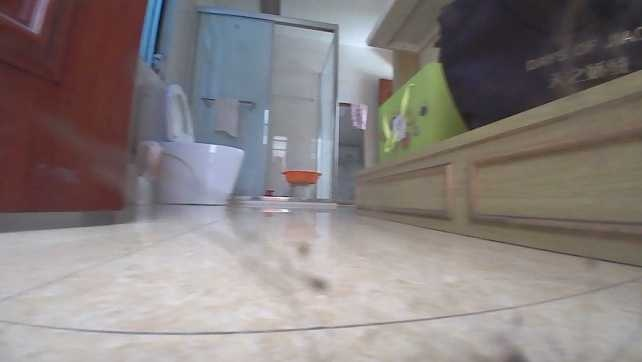toilet: (132, 81, 244, 206)
